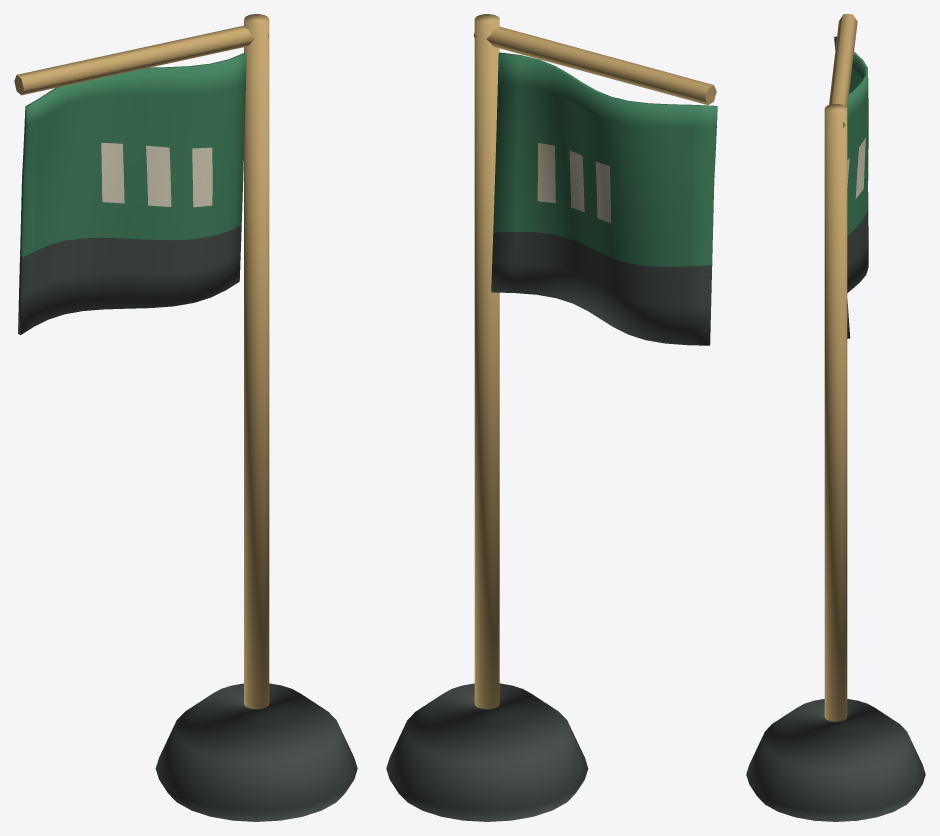
File: fanflag.forest-lanterns-new.glb
3 renders of one model, left to right at view 1: azimuth 30°, elevation 25°; view 2: azimuth 150°, elevation 25°; view 3: azimuth 270°, elevation 25°, orthographic. The views are drawn at different scales.
Parts seen in each view (by area): view 1: Weighted pedestal; view 2: Weighted pedestal; view 3: Weighted pedestal.
Part boxes in pixels (left/top/right/bottom): Weighted pedestal: left=14, top=14, right=357, bottom=821; Weighted pedestal: left=386, top=14, right=717, bottom=821; Weighted pedestal: left=746, top=14, right=925, bottom=821.
Size of the model in its own units: 0.8011 by 1.84 by 0.44.
